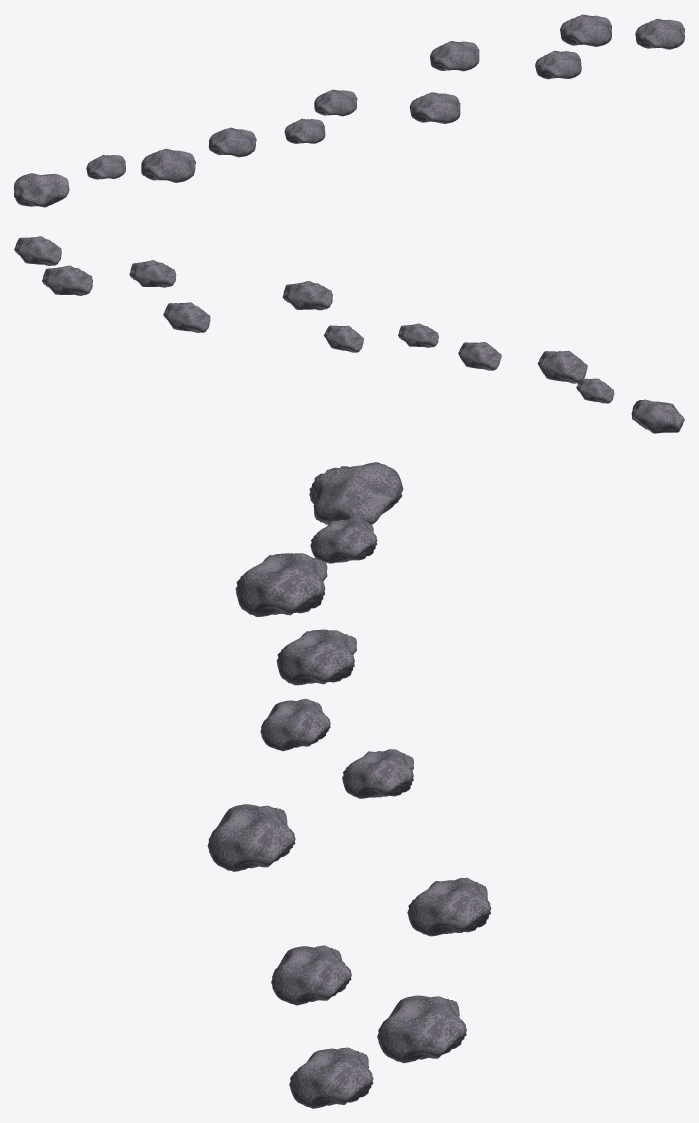
File: LevelLimitRocks.fbx
The picture shows the model from 3 angles, top to bottom: view 1: azimuth 30°, elevation 25°; view 2: azimuth 150°, elevation 25°; view 3: azimuth 270°, elevation 25°; orthographic projection. The views are drawn at different scales.
Parts seen in each view (by area): view 1: Cube; view 2: Cube; view 3: Cube.
Part boxes in pixels (bbox=[...]): Cube: bbox=[14, 14, 684, 207]; Cube: bbox=[14, 236, 684, 433]; Cube: bbox=[207, 462, 491, 1108].
Bounding box in the file's own units: 4350 × 239 × 810.
Materials: 1 (1 with a texture image).
